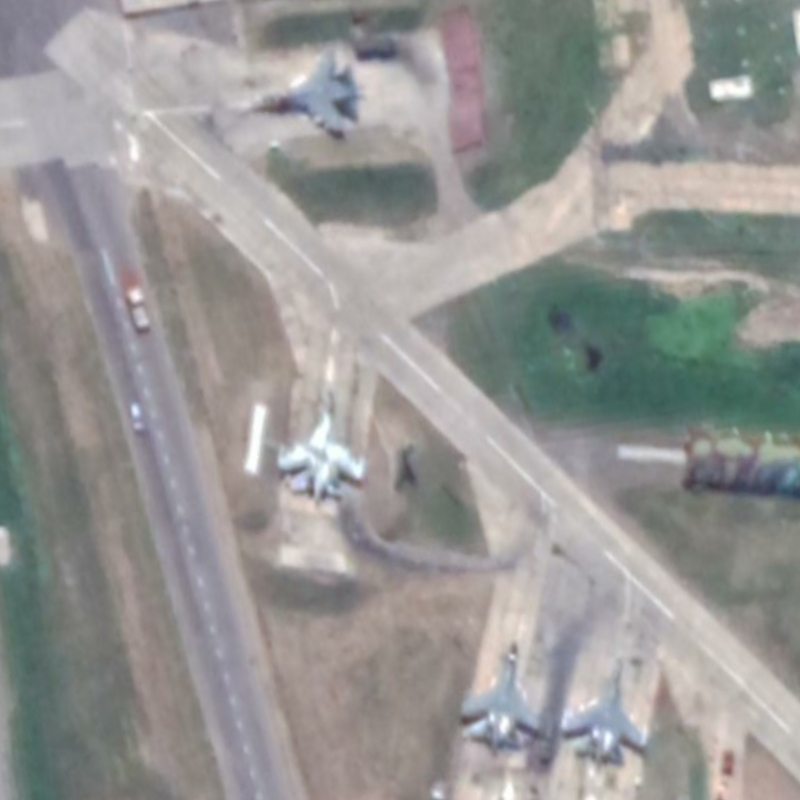A1: (234, 44, 361, 137), (274, 382, 369, 506), (558, 656, 649, 770), (456, 639, 543, 756)
